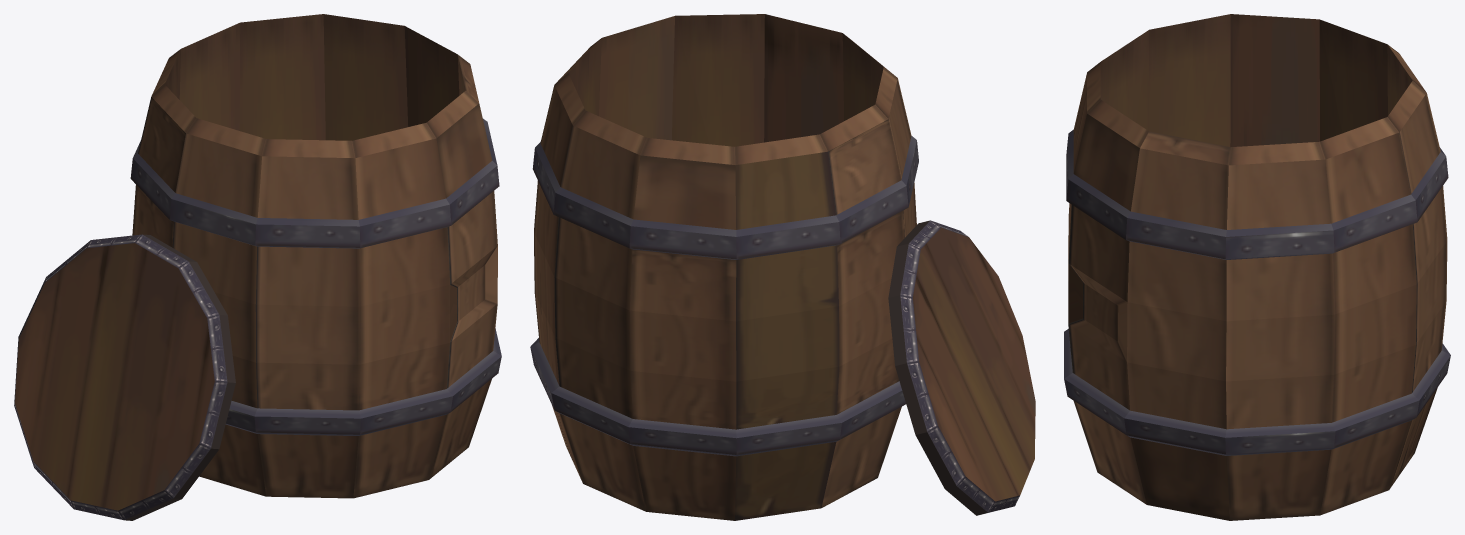
Rendered from barrel2.dae.
3 renders of one model, left to right at view 1: azimuth 30°, elevation 25°; view 2: azimuth 150°, elevation 25°; view 3: azimuth 270°, elevation 25°, orthographic. The views are drawn at different scales.
Visible parts, largest first — view 1: barrel; view 2: barrel; view 3: barrel.
Part boxes in pixels (x1,y1,x2,y2): barrel: (14,14,501,520); barrel: (530,14,1035,520); barrel: (1064,14,1450,520).
Bounding box in the file's own units: 3 × 2.23 × 2.4.
1 material, 1 textured.
